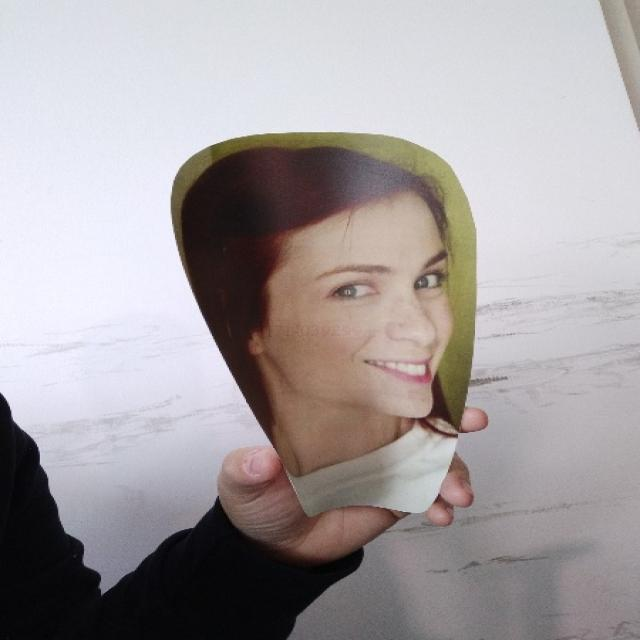photo: (162, 124, 499, 534)
